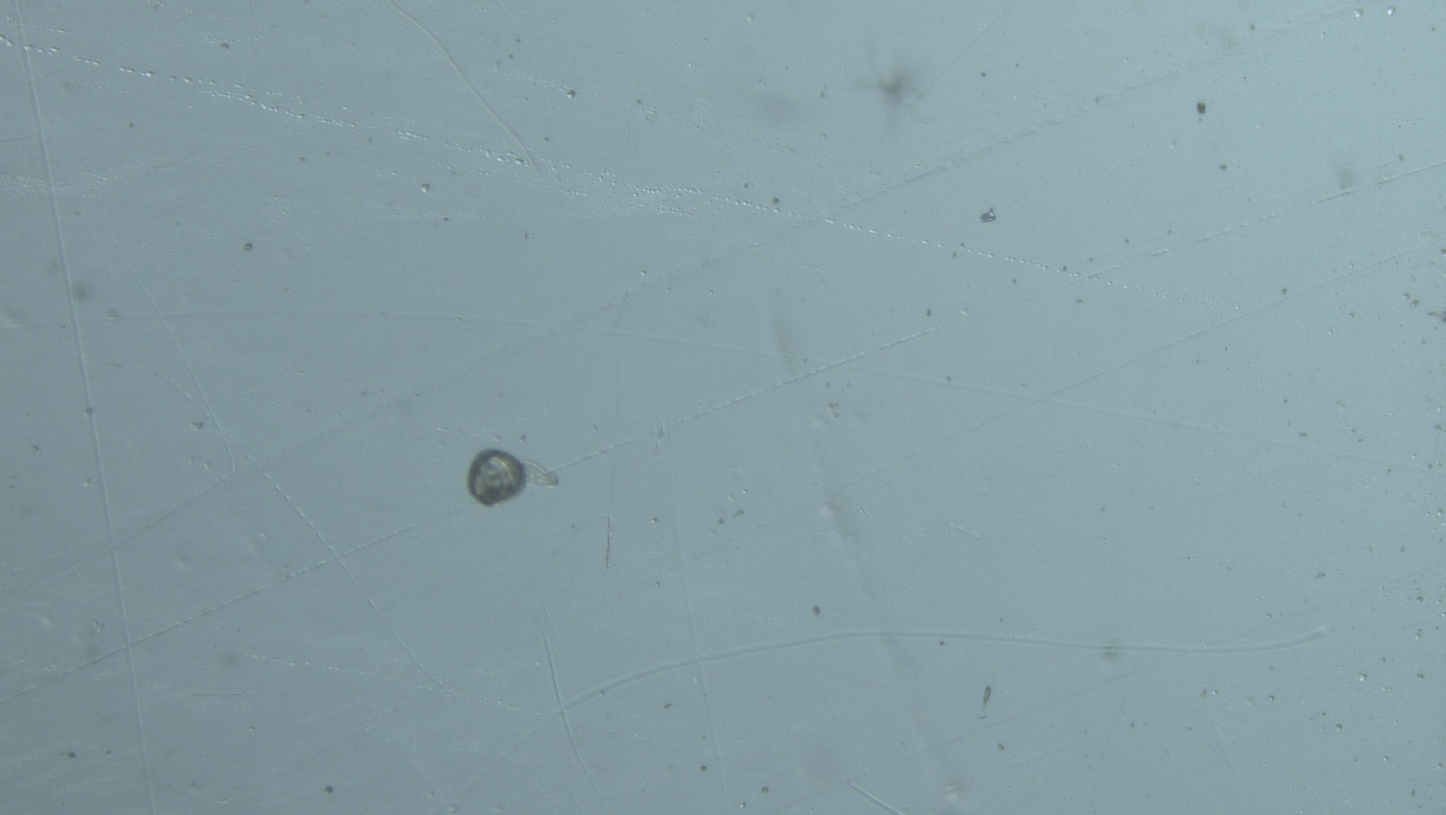live: (466, 449, 558, 507)
